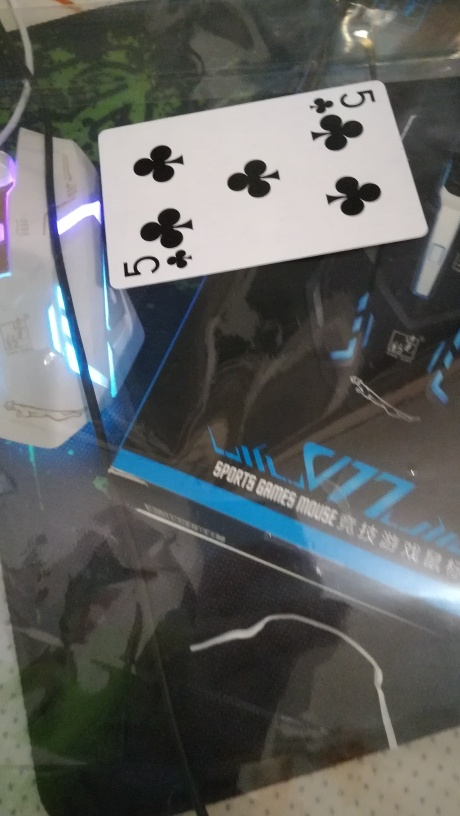mh 5: (94, 82, 431, 290)
